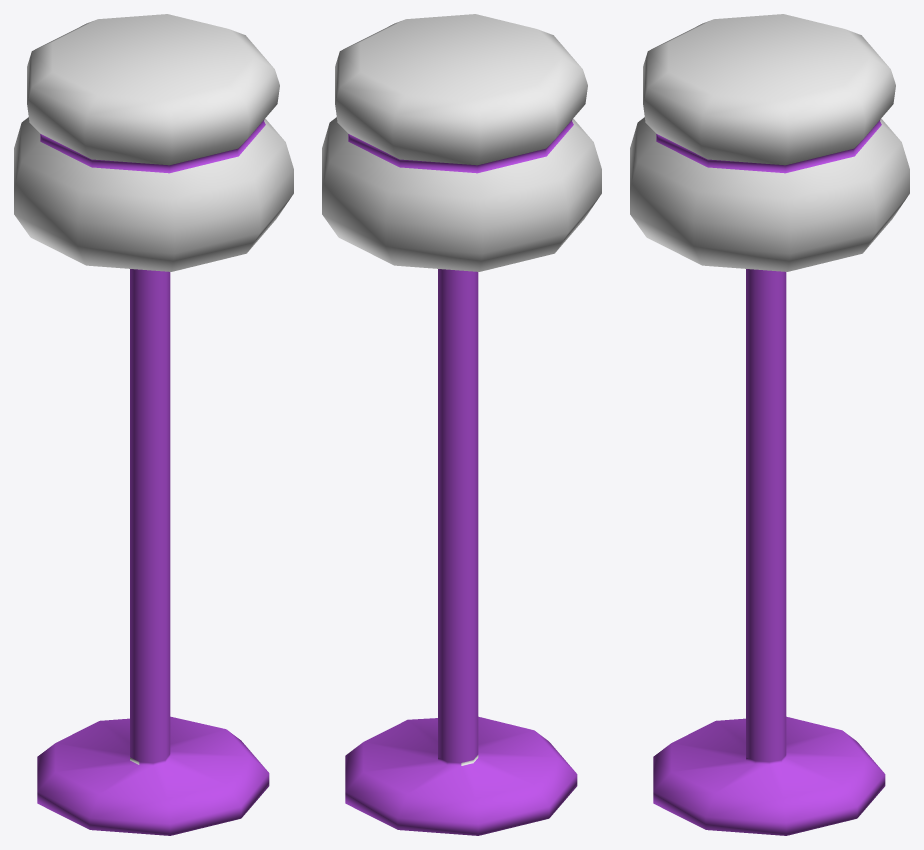
The model's file is SM_VanityLamp.fbx.
3 views of the same model, side by side, from view 1: azimuth 30°, elevation 25°; view 2: azimuth 150°, elevation 25°; view 3: azimuth 270°, elevation 25° (orthographic).
Visible parts, largest first — view 1: Circle.003; view 2: Circle.003; view 3: Circle.003.
Boxes of the visible parts, x1,y1,x2,y2 form: Circle.003: (14, 14, 293, 835); Circle.003: (322, 14, 601, 835); Circle.003: (630, 14, 909, 835).
Size of the model in its own units: 95.36 by 270 by 93.91.
